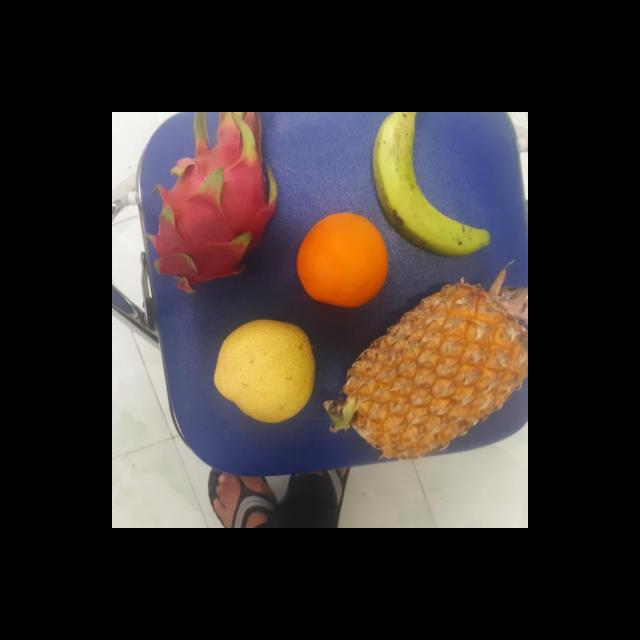banana: (374, 112, 482, 258)
orange: (296, 211, 392, 305)
pear: (211, 316, 320, 420)
pineapple: (332, 277, 528, 458)
pitaya: (143, 112, 284, 286)
